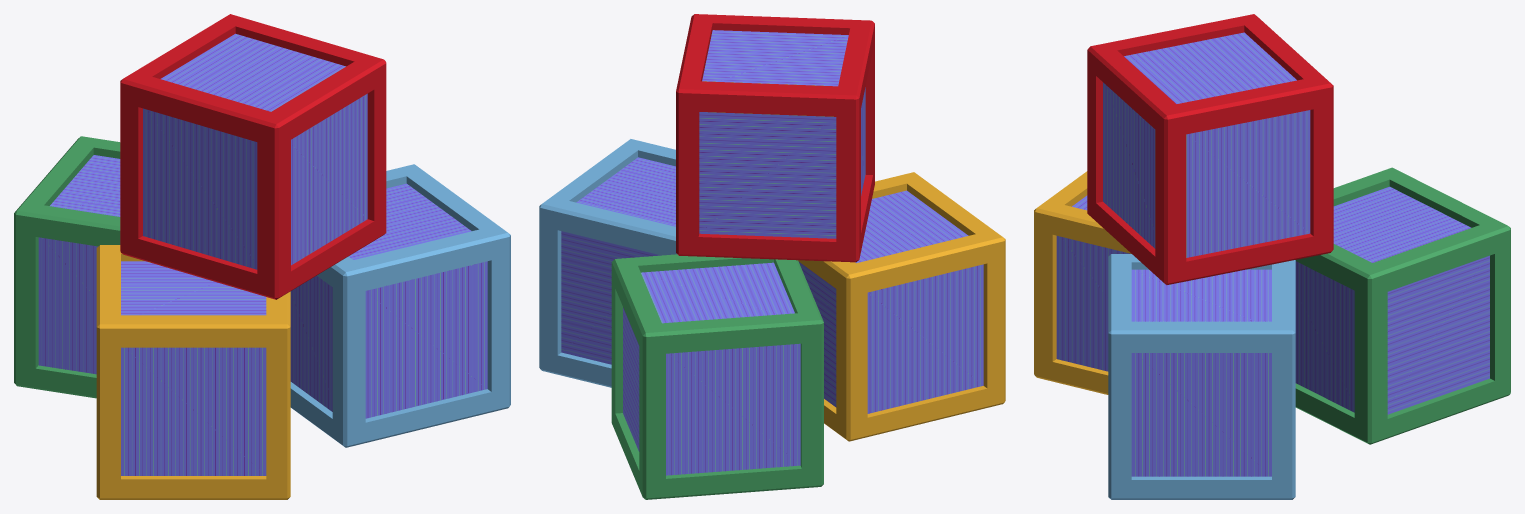
Rendered from WoodBlocks_Group_A_00.FBX.
3 renders of one model, left to right at view 1: azimuth 30°, elevation 25°; view 2: azimuth 150°, elevation 25°; view 3: azimuth 270°, elevation 25°, orthographic. The views are drawn at different scales.
Parts seen in each view (by area): view 1: WoodBlocks_Group_A_Rough_00, WoodBlocks_Group_A_00; view 2: WoodBlocks_Group_A_Rough_00, WoodBlocks_Group_A_00; view 3: WoodBlocks_Group_A_Rough_00, WoodBlocks_Group_A_00.
Part boxes in pixels (x1=…): WoodBlocks_Group_A_Rough_00: x1=38, y1=33, x2=487, y2=475; WoodBlocks_Group_A_00: x1=14, y1=14, x2=510, y2=499; WoodBlocks_Group_A_Rough_00: x1=561, y1=30, x2=983, y2=475; WoodBlocks_Group_A_00: x1=539, y1=14, x2=1005, y2=499; WoodBlocks_Group_A_Rough_00: x1=1056, y1=32, x2=1489, y2=476; WoodBlocks_Group_A_00: x1=1034, y1=14, x2=1510, y2=499.
Size of the model in its own units: 2.9 by 2.4 by 3.06.
